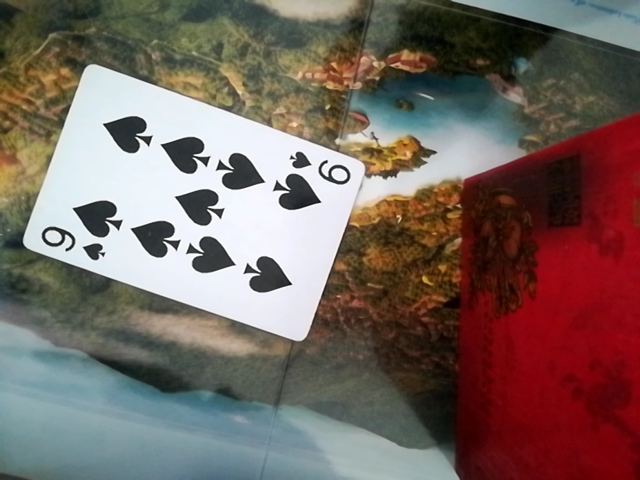ht 9: (23, 62, 374, 344)
